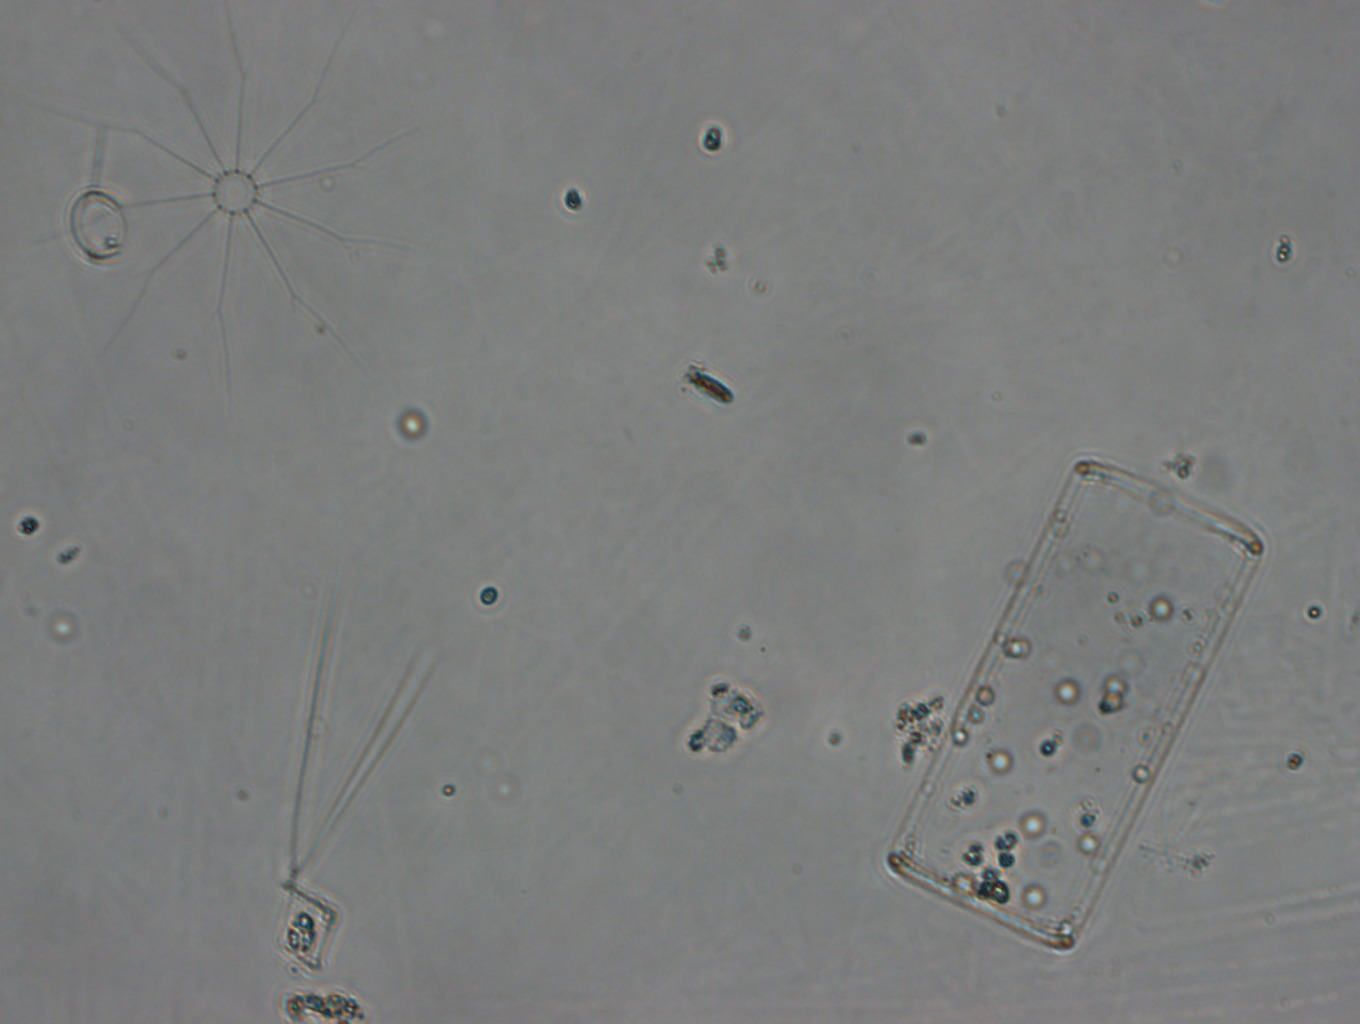bacteriastrum: (72, 25, 418, 369)
chaetoceros: (256, 598, 433, 972)
guinardia flaccida: (883, 459, 1266, 957)
